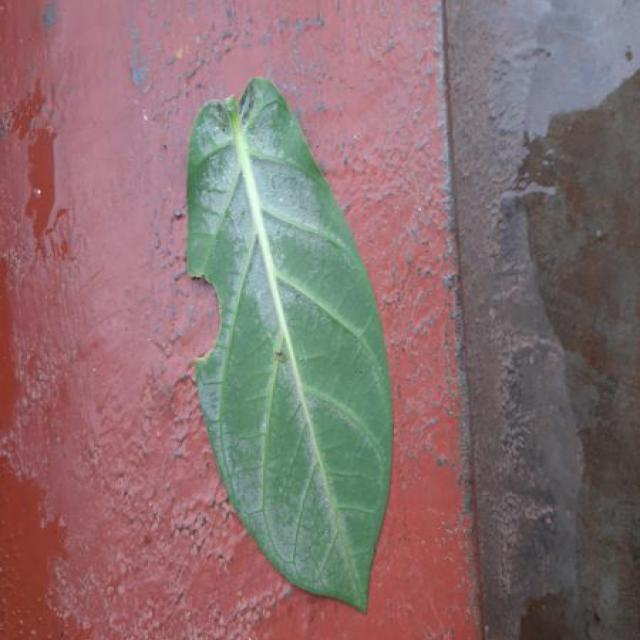ekka: (188, 79, 392, 609)
